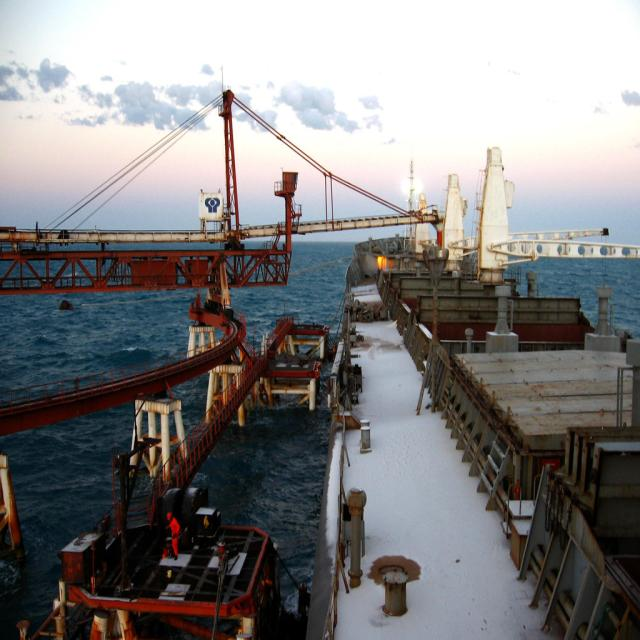Boat: (0, 66, 640, 640)
